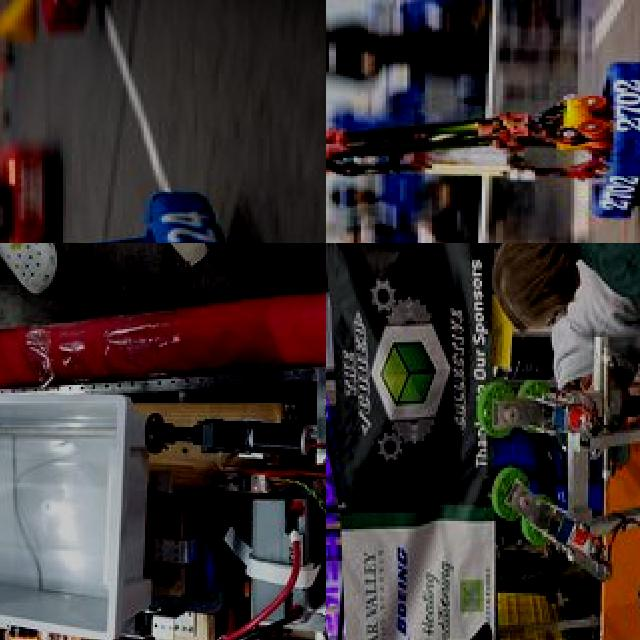FRC-Robots: (0, 266, 326, 640), (326, 25, 640, 243), (504, 289, 640, 640), (0, 154, 270, 243), (0, 134, 68, 243), (0, 0, 94, 39)
